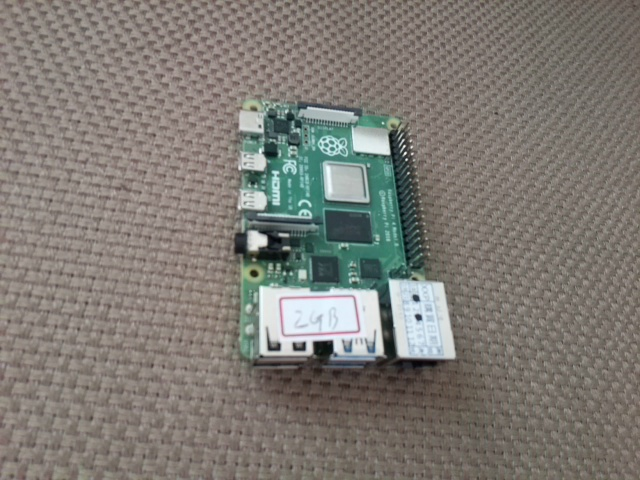Pi4: (229, 92, 459, 370)
